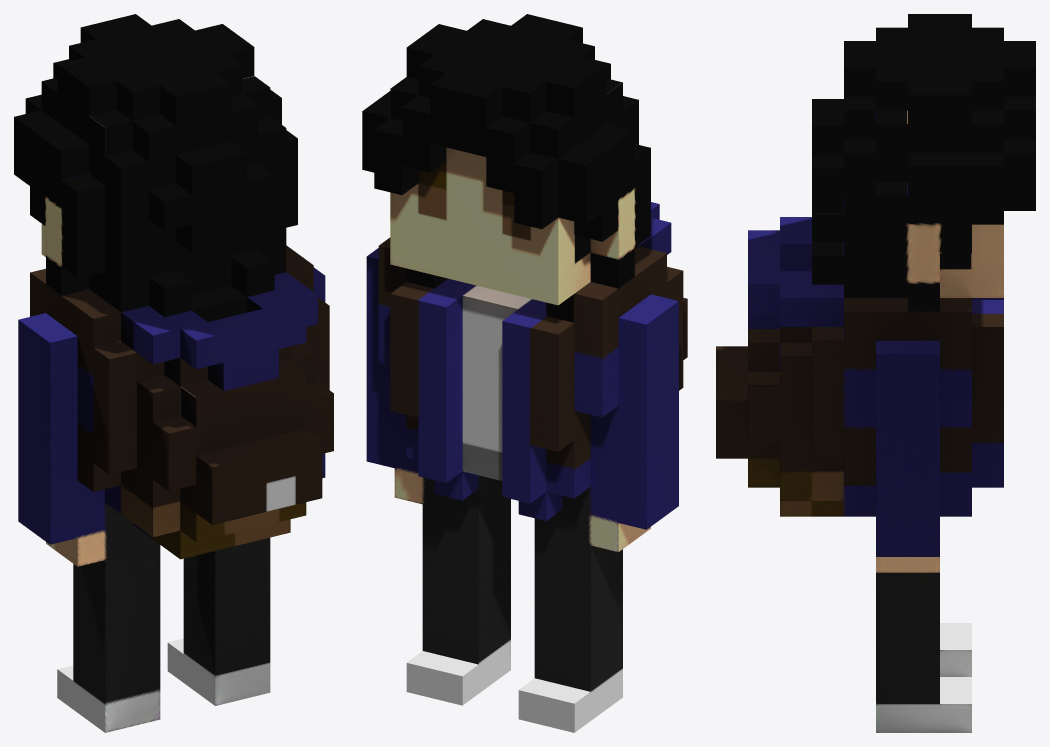
The model's file is bakestudent.glb.
The picture shows the model from 3 angles, left to right: view 1: azimuth 30°, elevation 25°; view 2: azimuth 150°, elevation 25°; view 3: azimuth 270°, elevation 25°; orthographic projection.
Visible parts, largest first — view 1: studentver2; view 2: studentver2; view 3: studentver2.
Boxes of the visible parts, x1,y1,x2,y2 form: studentver2: (14, 14, 333, 732); studentver2: (362, 14, 687, 732); studentver2: (716, 14, 1035, 732).
Size of what is drawn, in the model's own units: 1 by 2.2 by 1.
1 material, 1 textured.
